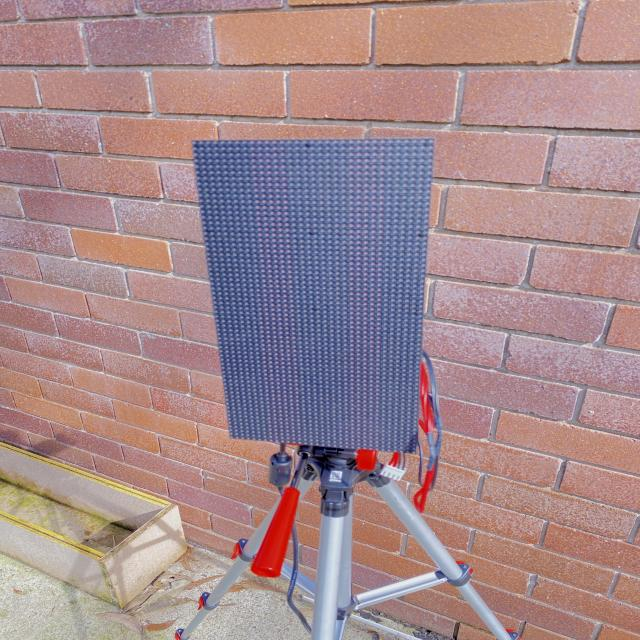matrix: (180, 134, 438, 460)
